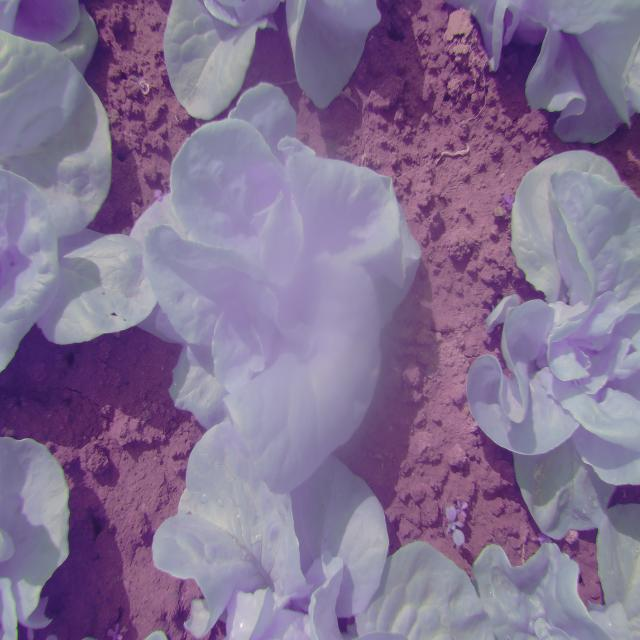vege: (126, 99, 424, 448)
